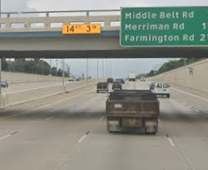1: (65, 24, 69, 34)
3: (84, 24, 92, 35)
4: (69, 23, 75, 34)
overheadsign: (62, 23, 102, 35)
